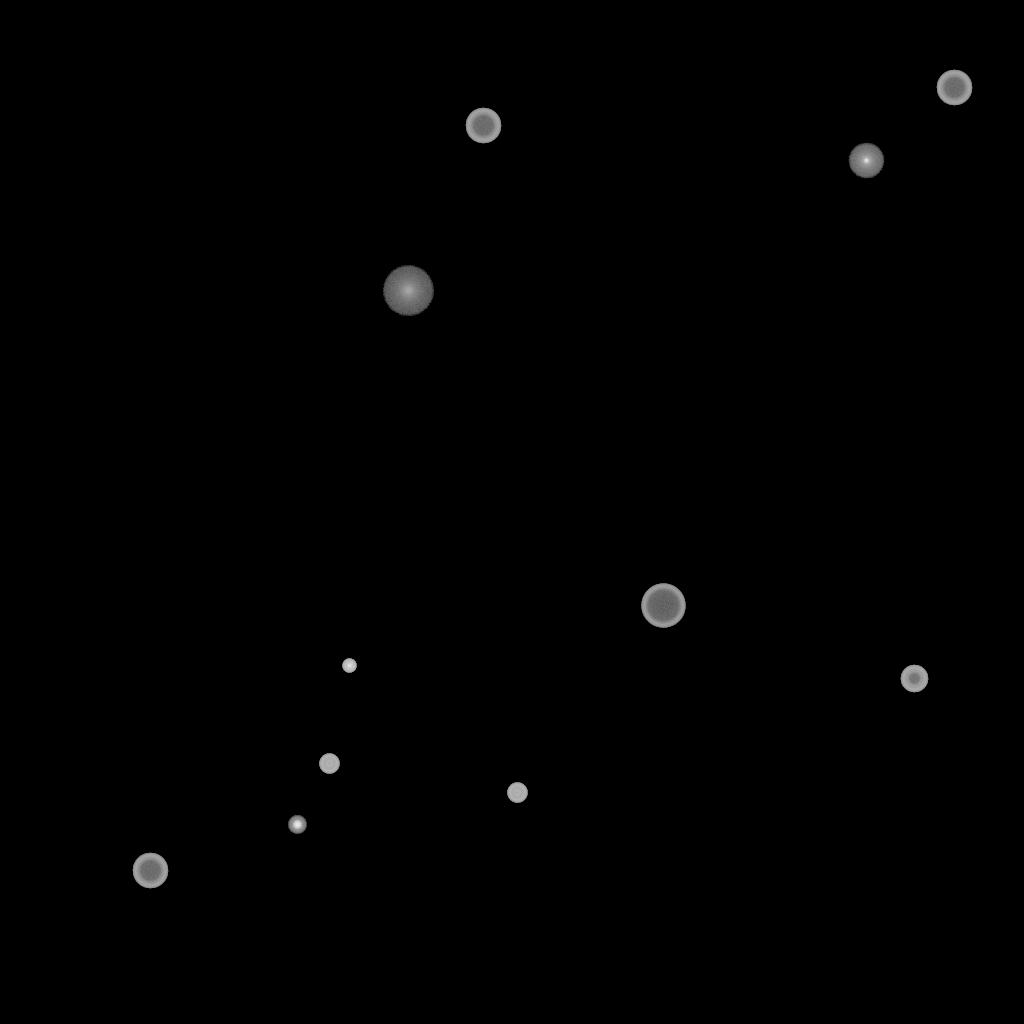depth:-20: (288, 816, 306, 834)
depth:-30: (342, 659, 356, 673)
depth:-40: (319, 754, 339, 774), (507, 783, 527, 803)
depth:-50: (900, 665, 928, 693)
depth:-60: (936, 70, 972, 106), (465, 108, 501, 144), (132, 853, 168, 889)
depth:-70: (641, 584, 685, 628)
depth:0: (848, 143, 884, 179)
depth:20: (382, 266, 434, 316)
